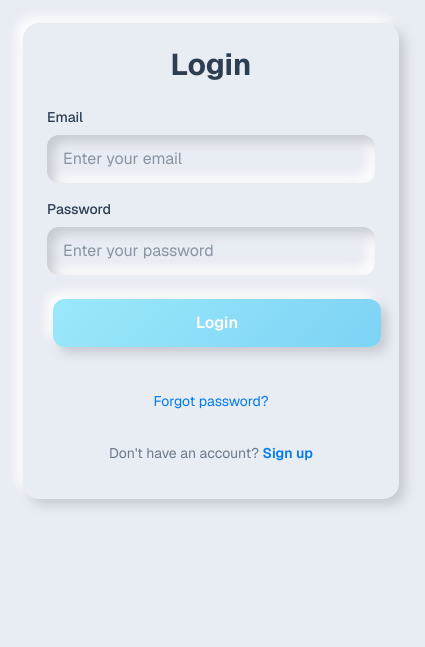
Test: Login Component › should handle signup failure
Note: Switch to signup mode
Click the button "Sign up" at (288, 453), box [262,431,313,475]
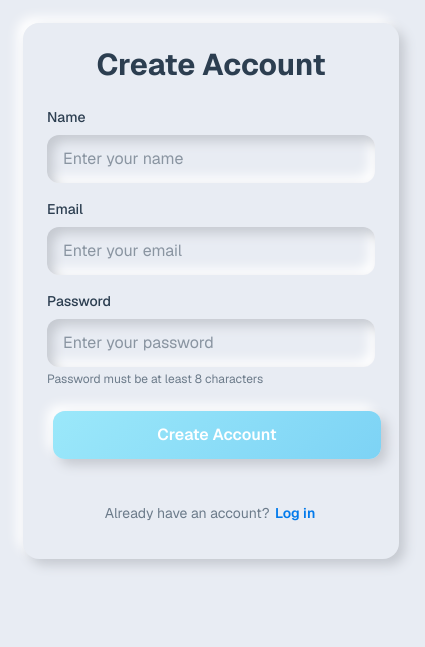
Type "Test User" into the field labelled "Name" at (211, 159), box [47,135,375,183]
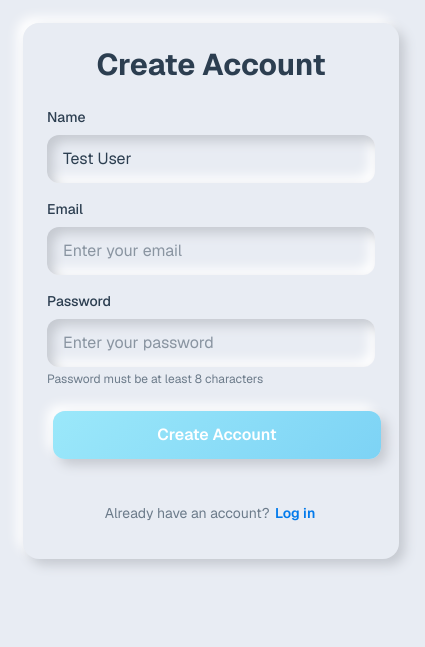
Type "test@example.com" into the field labelled "Email" at (211, 251), box [47,227,375,275]
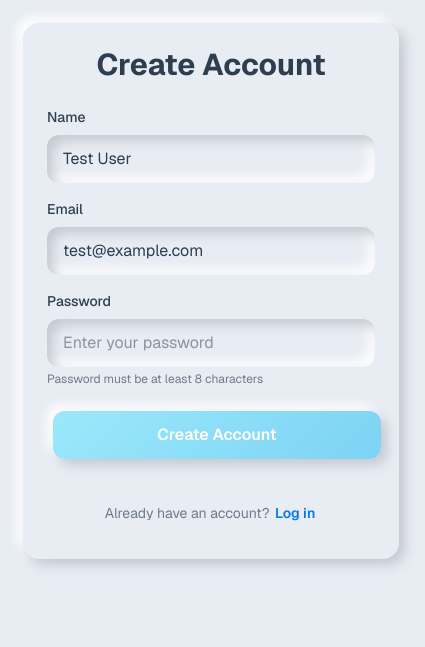
Type "password123" into the password field labelled "Password" at (211, 343), box [47,319,375,367]
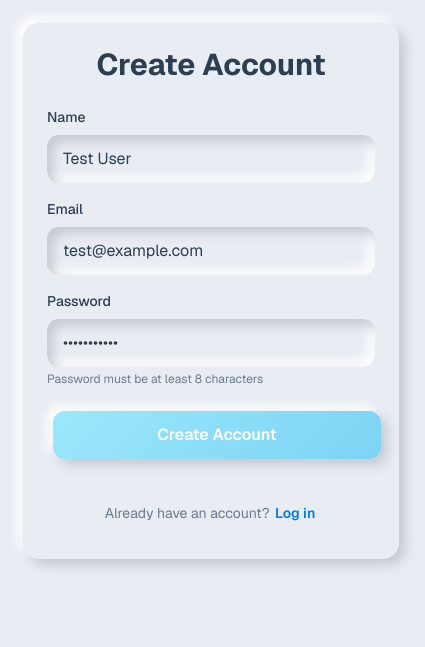
Click the button "Create Account" at (217, 435), box [53,411,381,459]
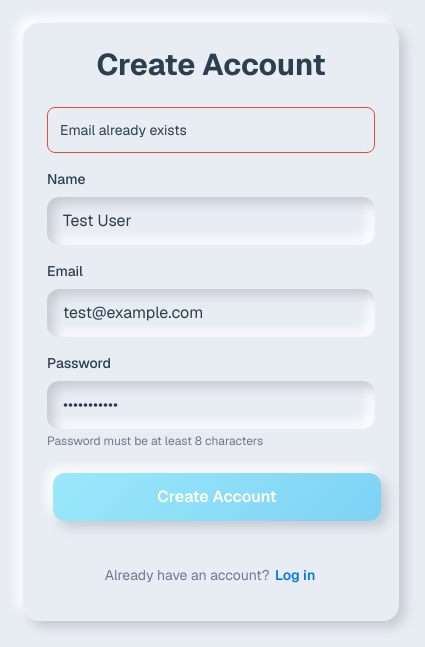
Check: the text "Email already exists" is shown, box [60,121,187,139]
